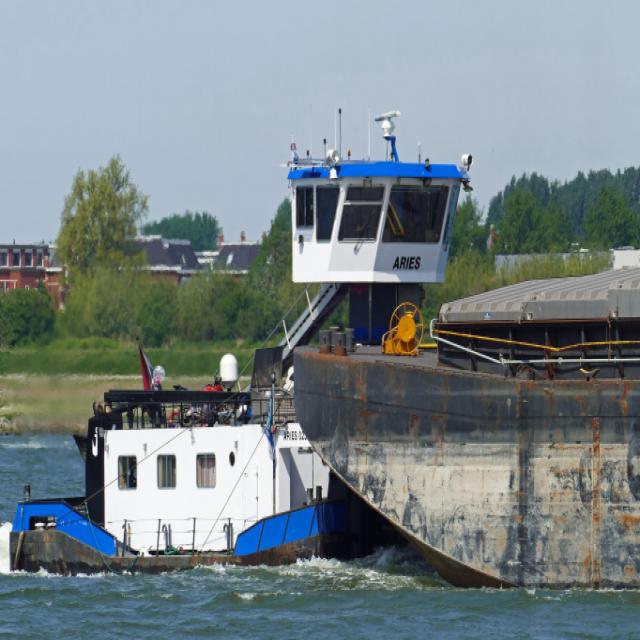tugboat: (8, 104, 517, 583)
